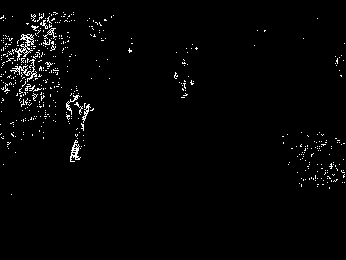person: (62, 92, 93, 164)
